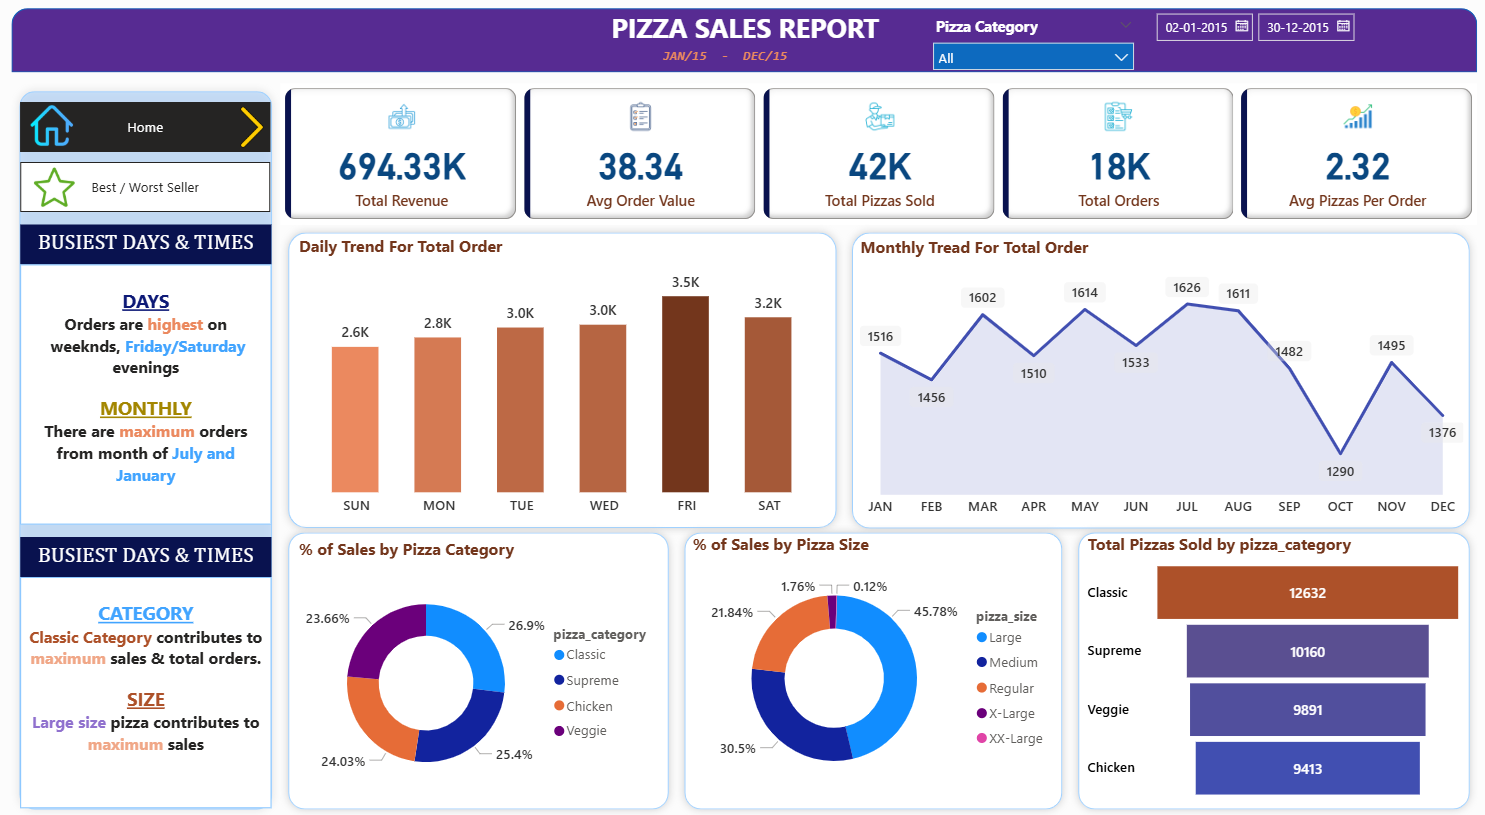

Layout of this report page (visuals, bound fields, positions):
{"tool":"powerbi","page":{"name":"Home","canvas":[1500,820],"ordinal":0},"visuals":[{"type":"cardVisual","fields":{"Data":["pizza_sales.Total Revenue","pizza_sales.Avg Order Value","pizza_sales.Total Pizzas Sold","pizza_sales.Total Orders","pizza_sales.Avg Pizzas Per Order"]},"box":[285.7,85.7,1197.1,141.4],"z":0},{"type":"shape","box":[17.1,11.4,1465.7,64.3],"z":1000},{"type":"textbox","box":[605.7,7.1,290,48.6],"z":2000},{"type":"textbox","box":[664.3,44.3,147.1,31.4],"z":3000},{"type":"shape","box":[285.7,227.1,564.3,311.4],"z":4000},{"type":"columnChart","title":"Daily Trend For Total Order","fields":{"Y":["pizza_sales.Total Orders"],"Category":["pizza_sales.Order Day"]},"box":[300,237.1,538.6,290],"z":5000},{"type":"shape","box":[850.3,227.6,633.6,312],"z":6000},{"type":"areaChart","title":"Monthly Tread For Total Order","fields":{"Category":["pizza_sales.Order Month"],"Y":["pizza_sales.Total Orders"]},"box":[861.2,238.5,613.2,290.2],"z":7000},{"type":"shape","box":[286.2,527.3,396.5,293],"z":8000},{"type":"shape","box":[1076.5,527.3,407.4,293],"z":9000},{"type":"shape","box":[682.7,527.3,393.8,293],"z":10000},{"type":"donutChart","title":"% of Sales by Pizza Category","fields":{"Y":["pizza_sales.Total Revenue"],"Category":["pizza_sales.pizza_category"]},"box":[299.8,539.6,373.4,271.2],"z":11000},{"type":"donutChart","title":"% of Sales by Pizza Size","fields":{"Y":["pizza_sales.Total Revenue"],"Category":["pizza_sales.pizza_size"]},"box":[693.6,535.5,373.4,271.2],"z":12000},{"type":"funnel","fields":{"Y":["pizza_sales.Total Pizzas Sold"],"Category":["pizza_sales.pizza_category"]},"box":[1088.8,535.5,385.6,275.3],"z":13000},{"type":"shape","box":[17.1,85.7,268.6,734.3],"z":14000},{"type":"textbox","box":[25.7,227.1,251.4,40],"z":15000},{"type":"textbox","box":[25.7,267.1,251.4,260],"z":16000},{"type":"textbox","box":[25.7,540,251.4,40],"z":17000},{"type":"textbox","box":[25.7,580,251.4,231.4],"z":18000},{"type":"slicer","fields":{"Values":["pizza_sales.order_date"]},"box":[1150.1,6.8,264.4,68.1],"z":19000},{"type":"slicer","fields":{"Values":["pizza_sales.pizza_category"]},"box":[928.6,14.3,221.4,61.4],"z":20000},{"type":"pageNavigator","box":[26.3,105.1,250.5,50.5],"z":21000},{"type":"pageNavigator","box":[25.9,164.9,250.7,50.4],"z":22000},{"type":"image","box":[228.3,105.1,58.6,50.5],"z":23000},{"type":"image","box":[26.3,103,62.6,52.5],"z":24000},{"type":"image","box":[28.6,164.9,62.7,50.4],"z":25000}]}

Visuals, with their boxes in screenshot pixels (x1, y1, x2, y2), scaled from the page's 1500x820 canvas onto the 1485x815 screenshot:
cardVisual - pizza_sales.Total Revenue x pizza_sales.Avg Order Value: locate(283, 85, 1468, 226)
shape: locate(17, 11, 1468, 75)
textbox: locate(600, 7, 887, 55)
textbox: locate(658, 44, 803, 75)
shape: locate(283, 226, 842, 535)
"Daily Trend For Total Order" columnChart: locate(297, 236, 830, 524)
shape: locate(842, 226, 1469, 536)
"Monthly Tread For Total Order" areaChart: locate(853, 237, 1460, 525)
shape: locate(283, 524, 676, 814)
shape: locate(1066, 524, 1469, 814)
shape: locate(676, 524, 1066, 814)
"% of Sales by Pizza Category" donutChart: locate(297, 536, 666, 806)
"% of Sales by Pizza Size" donutChart: locate(687, 532, 1056, 802)
funnel - pizza_sales.Total Pizzas Sold x pizza_sales.pizza_category: locate(1078, 532, 1460, 806)
shape: locate(17, 85, 283, 814)
textbox: locate(25, 226, 274, 265)
textbox: locate(25, 265, 274, 524)
textbox: locate(25, 537, 274, 576)
textbox: locate(25, 576, 274, 806)
slicer - pizza_sales.order_date: locate(1139, 7, 1400, 74)
slicer - pizza_sales.pizza_category: locate(919, 14, 1138, 75)
pageNavigator: locate(26, 104, 274, 155)
pageNavigator: locate(26, 164, 274, 214)
image: locate(226, 104, 284, 155)
image: locate(26, 102, 88, 155)
image: locate(28, 164, 90, 214)
